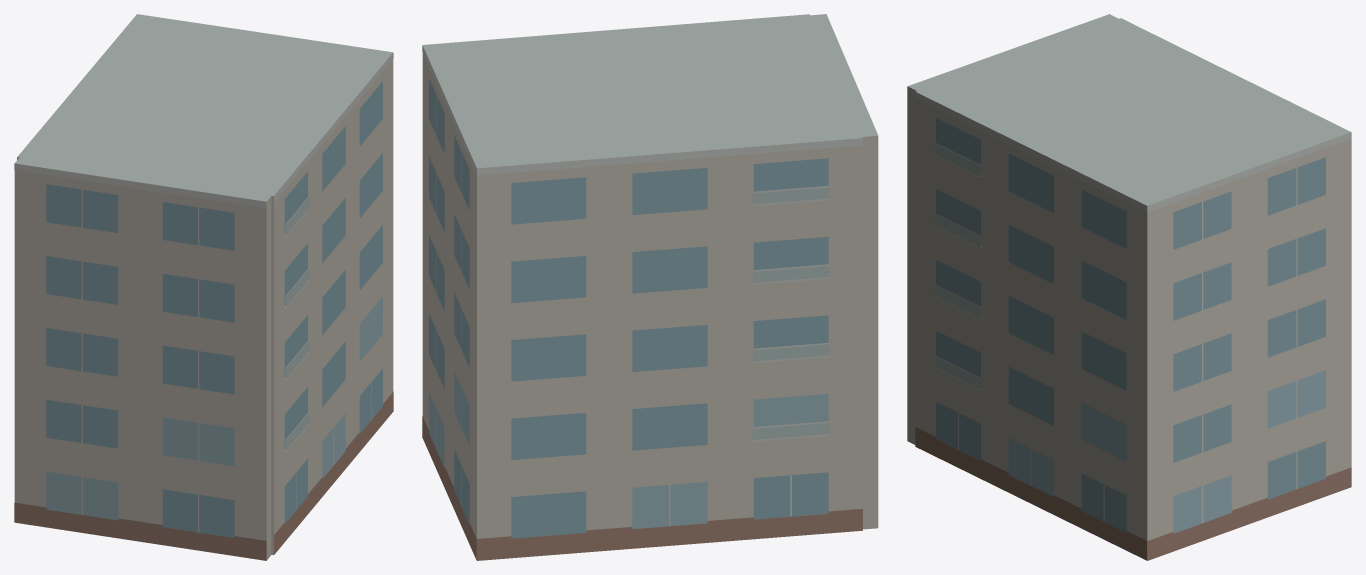
Rendered from survey-upis-32843762.glb.
The picture shows the model from 3 angles, left to right: view 1: azimuth 30°, elevation 25°; view 2: azimuth 150°, elevation 25°; view 3: azimuth 270°, elevation 25°; orthographic projection. The views are drawn at different scales.
Parts seen in each view (by area): view 1: survey-upis-32843762.tmp; view 2: survey-upis-32843762.tmp; view 3: survey-upis-32843762.tmp.
Part boxes in pixels (<box>): survey-upis-32843762.tmp: <box>14,14,393,560</box>; survey-upis-32843762.tmp: <box>422,14,878,560</box>; survey-upis-32843762.tmp: <box>907,14,1351,560</box>.
Size of the model in its own units: 15.32 by 13.2 by 14.98.
